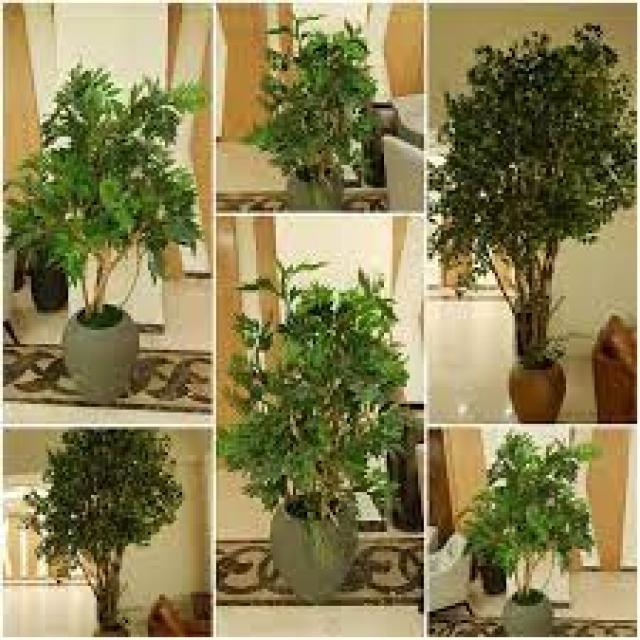Tree: (427, 24, 640, 371), (7, 72, 212, 325), (226, 266, 411, 528), (24, 427, 186, 640), (451, 428, 602, 610), (248, 12, 385, 189)
